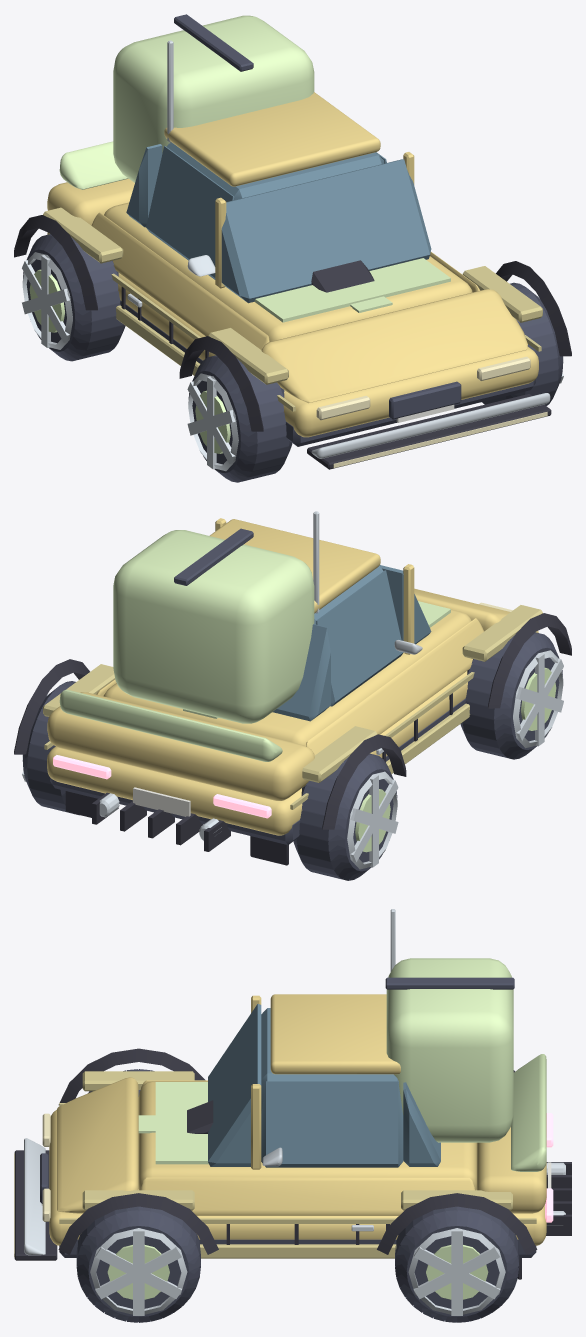
The model's file is parcel_pod.fbx.
3 views of the same model, one above another, from view 1: azimuth 30°, elevation 25°; view 2: azimuth 150°, elevation 25°; view 3: azimuth 270°, elevation 25° (orthographic). The views are drawn at different scales.
Visible parts, largest first — view 1: Body, Glass, Accent3, Trim, Accent, Metal, Wheel_FR, Wheel_RR, Trim2, Accent2, Light, Wheel_FL (+1 smaller); view 2: Body, Accent3, Glass, Trim, Accent, Metal, Wheel_RR, Wheel_FR, Trim2, Wheel_RL, Light2, Metal2 (+2 smaller); view 3: Body, Accent3, Glass, Trim, Metal, Accent, Wheel_RL, Wheel_FL, Trim2, Accent2, Metal2, Light (+1 smaller).
Boxes of the visible parts, left/top/right/bottom form: Body: left=47, top=92, right=538, bottom=437; Glass: left=126, top=142, right=431, bottom=303; Accent3: left=59, top=15, right=450, bottom=322; Trim: left=14, top=215, right=571, bottom=469; Accent: left=43, top=207, right=542, bottom=411; Metal: left=22, top=252, right=563, bottom=471; Wheel_FR: left=188, top=355, right=292, bottom=482; Wheel_RR: left=23, top=234, right=125, bottom=361; Trim2: left=120, top=14, right=535, bottom=446; Accent2: left=167, top=40, right=550, bottom=458; Light: left=316, top=356, right=547, bottom=467; Wheel_FL: left=482, top=282, right=563, bottom=405; Body: left=47, top=518, right=538, bottom=835; Accent3: left=59, top=530, right=450, bottom=761; Glass: left=272, top=565, right=431, bottom=721; Trim: left=14, top=613, right=571, bottom=865; Accent: left=43, top=605, right=542, bottom=809; Metal: left=22, top=650, right=563, bottom=869; Wheel_RR: left=293, top=753, right=397, bottom=880; Wheel_FR: left=460, top=632, right=562, bottom=759; Trim2: left=50, top=528, right=465, bottom=844; Wheel_RL: left=22, top=681, right=79, bottom=815; Light2: left=53, top=755, right=271, bottom=818; Metal2: left=355, top=667, right=556, bottom=852; Body: left=49, top=994, right=546, bottom=1245; Accent3: left=155, top=958, right=546, bottom=1171; Glass: left=208, top=1004, right=440, bottom=1167; Trim: left=14, top=1048, right=571, bottom=1279; Metal: left=90, top=1162, right=565, bottom=1315; Accent: left=59, top=1071, right=536, bottom=1258; Wheel_RL: left=395, top=1206, right=519, bottom=1322; Wheel_FL: left=76, top=1206, right=200, bottom=1322; Trim2: left=40, top=977, right=536, bottom=1257; Accent2: left=24, top=909, right=395, bottom=1255; Metal2: left=107, top=1245, right=488, bottom=1299; Light: left=14, top=1113, right=50, bottom=1257.
Size of the model in its own units: 3.41 by 3.15 by 5.17.
